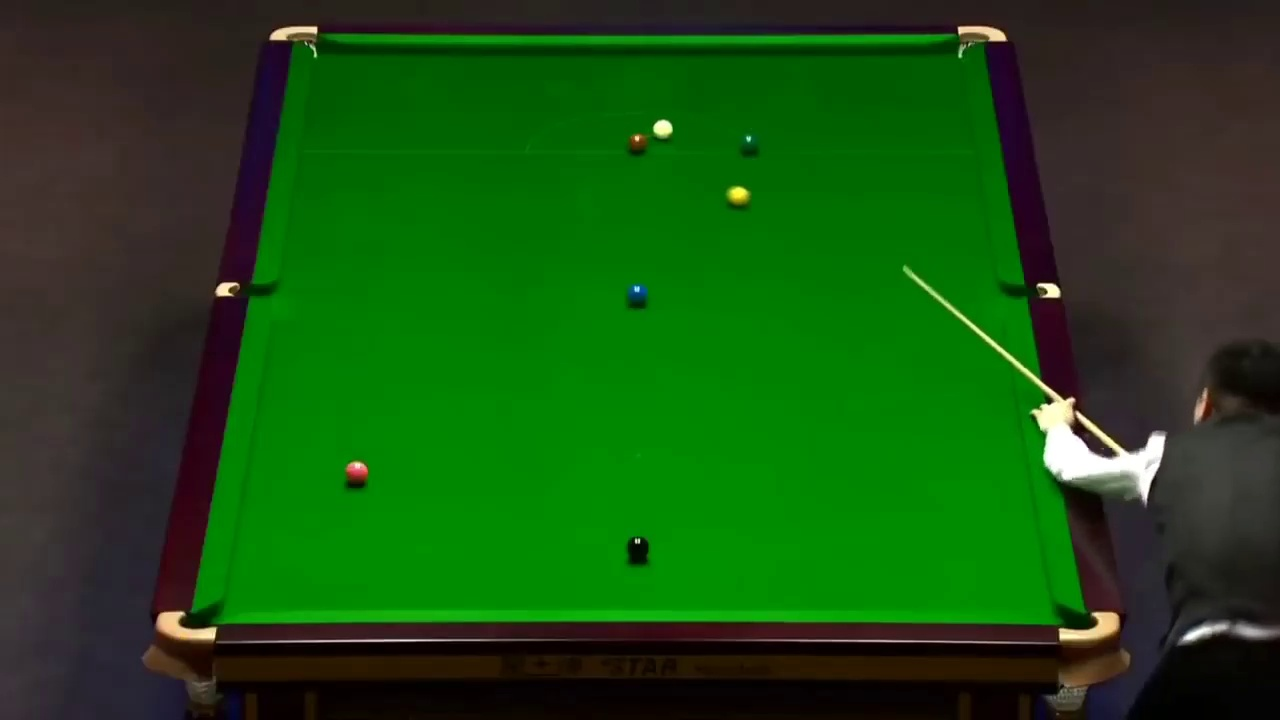ball: (341, 459, 371, 489), (621, 280, 648, 307), (625, 538, 652, 562)
